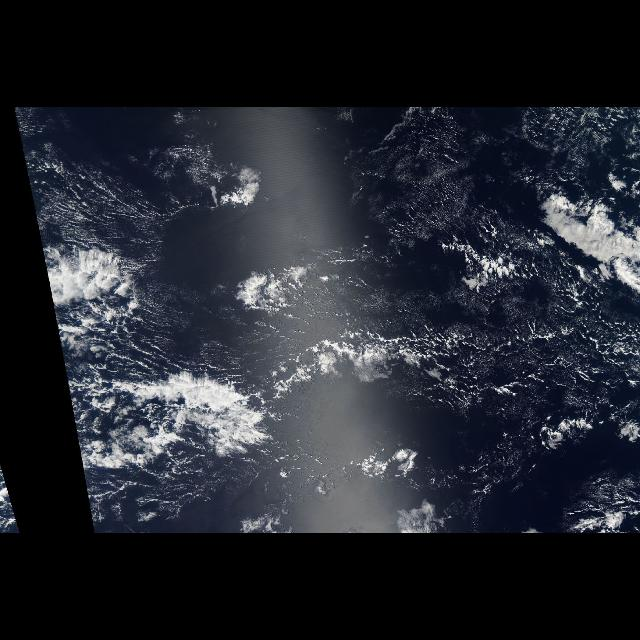Fish: (252, 329, 484, 407)
Gravel: (430, 309, 640, 483)
Sugar: (18, 134, 228, 260), (315, 108, 485, 255)
